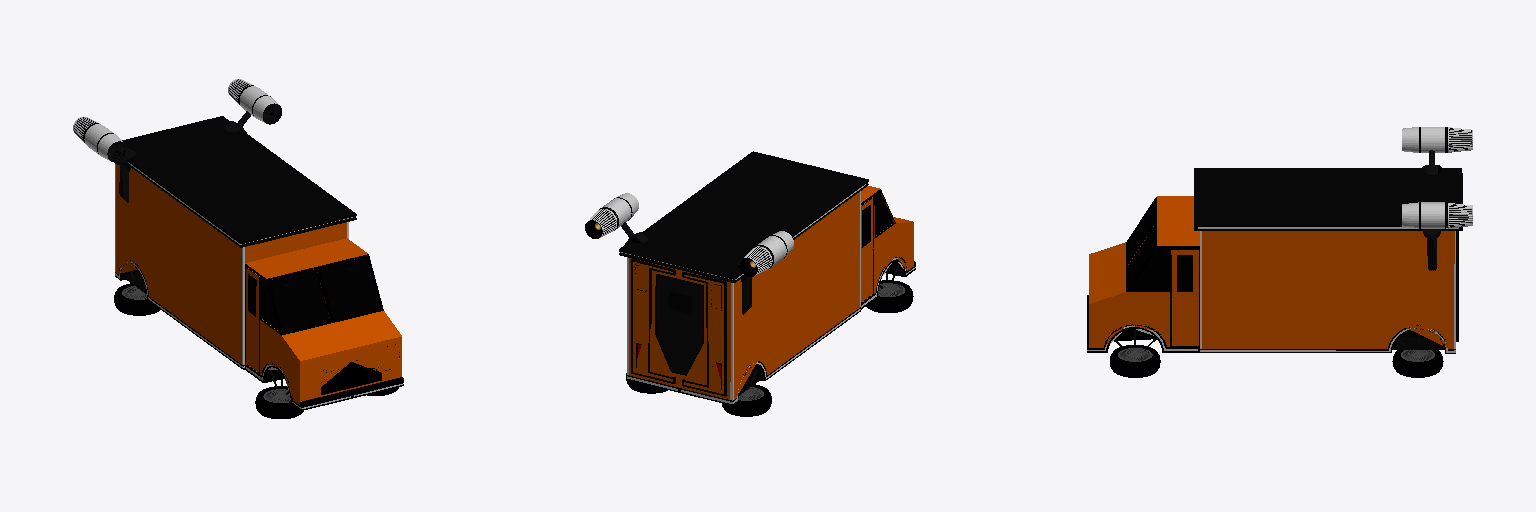
The model's file is vehicle_4.obj.
3 views of the same model, side by side, from view 1: azimuth 30°, elevation 25°; view 2: azimuth 150°, elevation 25°; view 3: azimuth 270°, elevation 25° (orthographic).
Parts seen in each view (by area): view 1: Cube.001, Cube, Cylinder.002, Torus, Torus.001; view 2: Cube.001, Cube, Cylinder.002, Torus.001, Torus; view 3: Cube.001, Cube, Cylinder.002, Torus, Torus.001.
Part boxes in pixels (left/top/right/bottom): Cube.001: left=115, top=116, right=356, bottom=369; Cube: left=245, top=238, right=403, bottom=410; Cylinder.002: left=73, top=79, right=281, bottom=202; Torus: left=255, top=386, right=398, bottom=418; Torus.001: left=114, top=283, right=160, bottom=315; Cube.001: left=619, top=151, right=868, bottom=405; Cube: left=861, top=186, right=915, bottom=309; Cylinder.002: left=585, top=193, right=793, bottom=314; Torus.001: left=626, top=373, right=771, bottom=416; Torus: left=866, top=280, right=913, bottom=312; Cube.001: left=1194, top=168, right=1462, bottom=353; Cube: left=1087, top=196, right=1199, bottom=352; Cylinder.002: left=1402, top=127, right=1472, bottom=270; Torus: left=1110, top=345, right=1160, bottom=377; Torus.001: left=1392, top=350, right=1443, bottom=377.
Bounding box in the file's own units: 5.56 × 5.39 × 10.47.